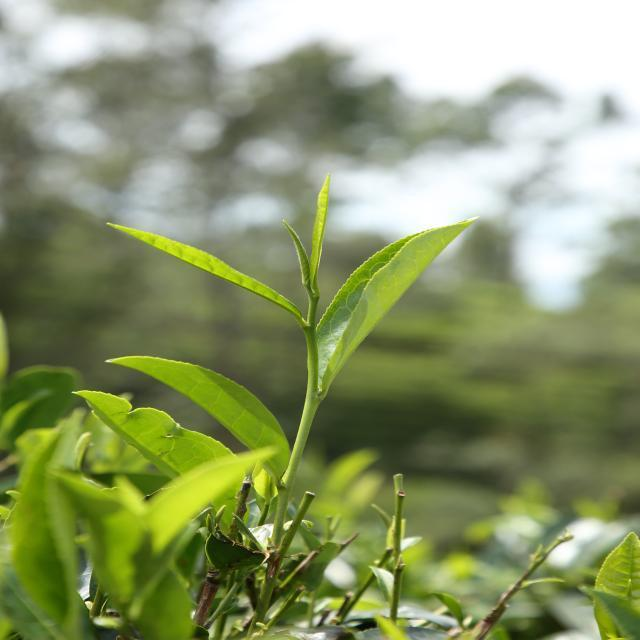Stem: (303, 327, 318, 361)
